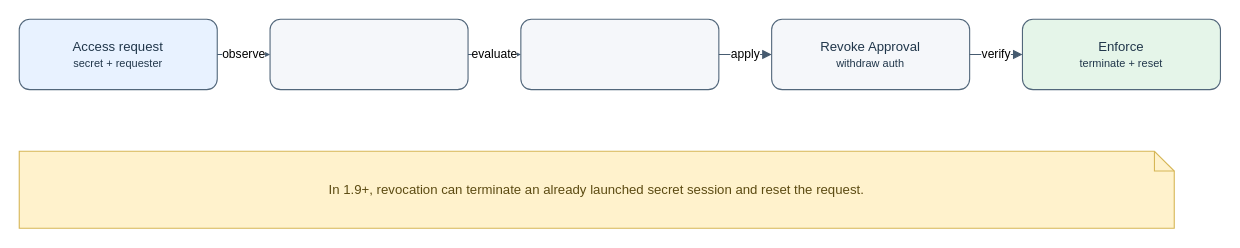
Some shapes in this 1240 by 248 pixel diagram are drawn without their labels. The shapes that lost their labels are listed below. From the top down, each one's box as (x1, y1, x2, y2) in pixels, then its label:
(269, 18, 468, 90): Approval tiers approver state
(520, 18, 719, 90): Launch active session
